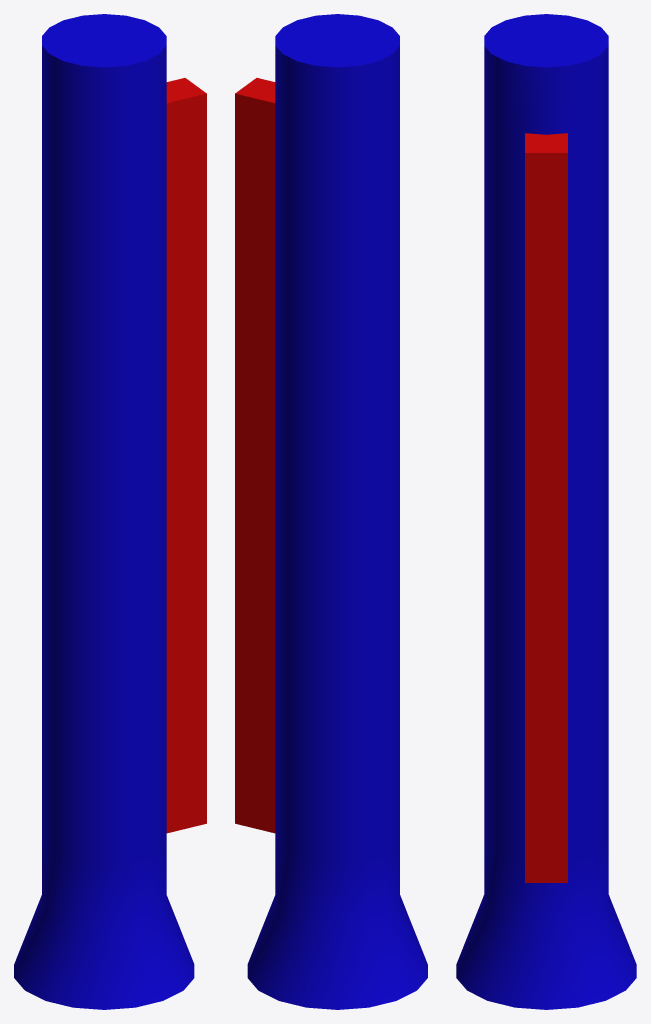
Rendered from EnergyWallBorderVar1.fbx.
3 views of the same model, side by side, from view 1: azimuth 30°, elevation 25°; view 2: azimuth 150°, elevation 25°; view 3: azimuth 270°, elevation 25° (orthographic).
Visible parts, largest first — view 1: EnergyWallBorderVar1; view 2: EnergyWallBorderVar1; view 3: EnergyWallBorderVar1.
Boxes of the visible parts, left/top/right/bottom form: EnergyWallBorderVar1: left=14, top=14, right=206, bottom=1009; EnergyWallBorderVar1: left=235, top=14, right=427, bottom=1009; EnergyWallBorderVar1: left=456, top=14, right=636, bottom=1009.
Bounding box in the file's own units: 20.67 × 107 × 18.87.
